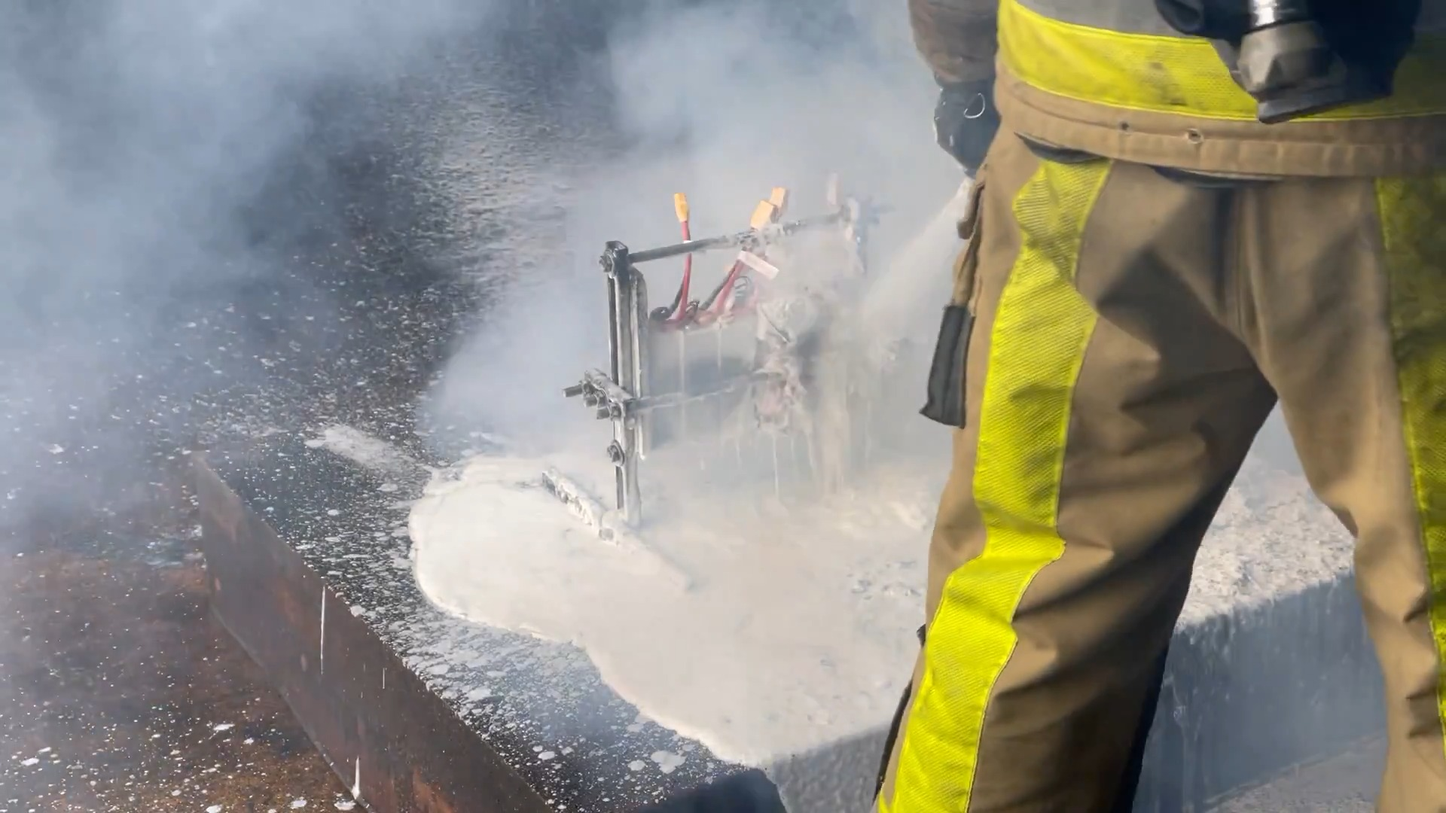smoke: (2, 0, 972, 514)
